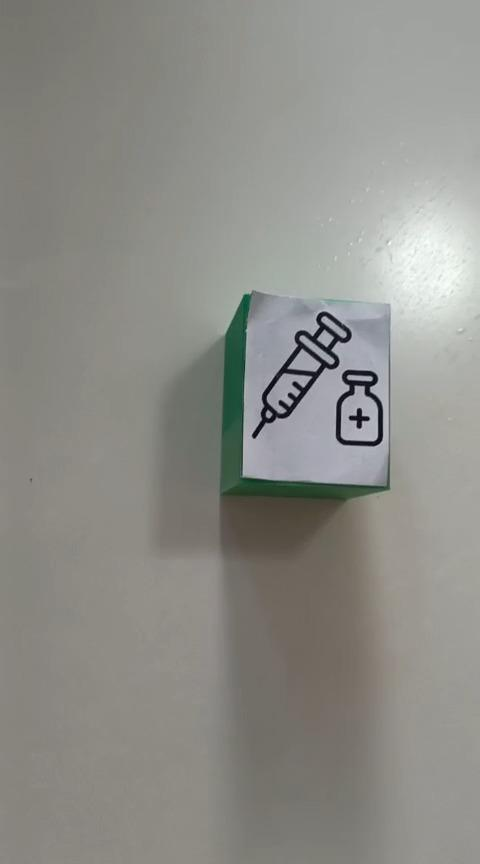antiseptic cream: (219, 288, 391, 499)
